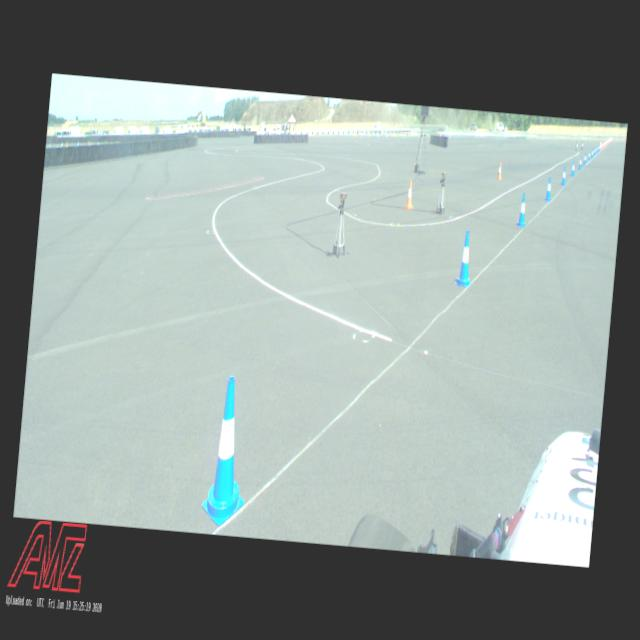blue_cone: (200, 373, 255, 528), (454, 230, 474, 288), (516, 191, 528, 227), (544, 176, 552, 201), (560, 166, 567, 185), (570, 160, 575, 177), (577, 156, 582, 170), (582, 152, 586, 164), (590, 149, 594, 158), (593, 146, 596, 156), (588, 150, 590, 161), (596, 145, 598, 154), (598, 145, 600, 152)
orange_cone: (404, 180, 414, 210), (497, 162, 502, 178)
